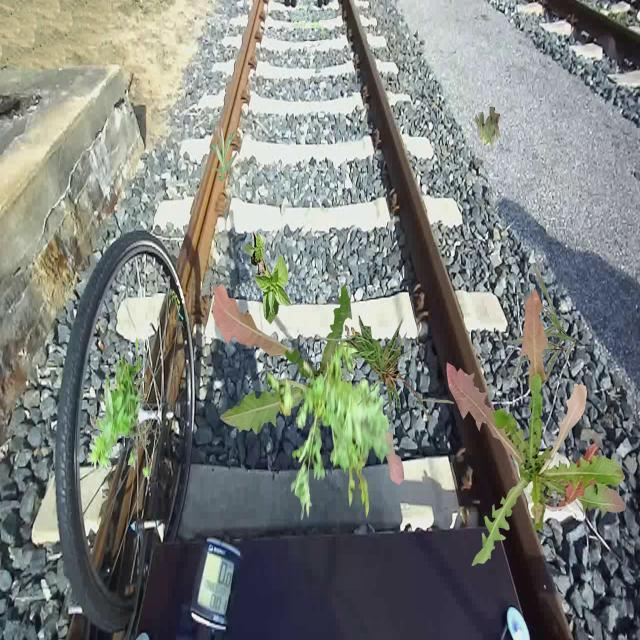Plant: (447, 288, 627, 566), (212, 283, 404, 486), (267, 325, 392, 521), (311, 315, 454, 434), (87, 337, 152, 480), (504, 263, 577, 388), (245, 230, 293, 325), (211, 126, 238, 182), (331, 339, 358, 380), (475, 106, 501, 148)
